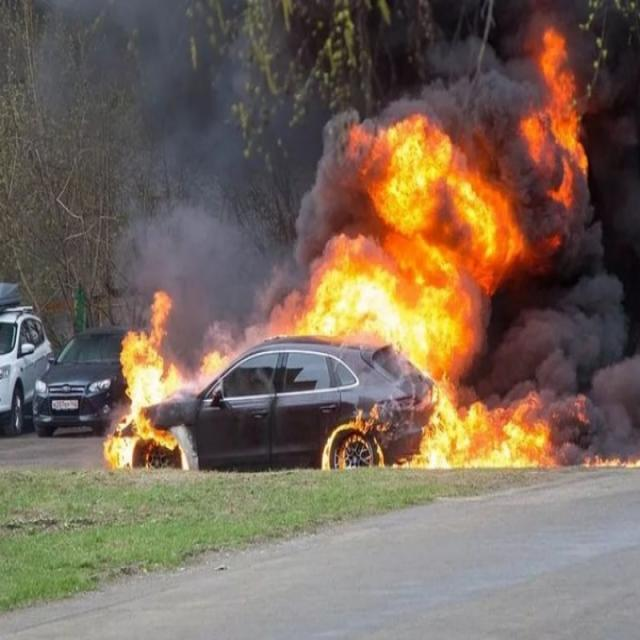Fire: (296, 27, 588, 470), (102, 292, 230, 471), (584, 454, 640, 468)
Smoke: (279, 0, 640, 470), (33, 0, 273, 339)
